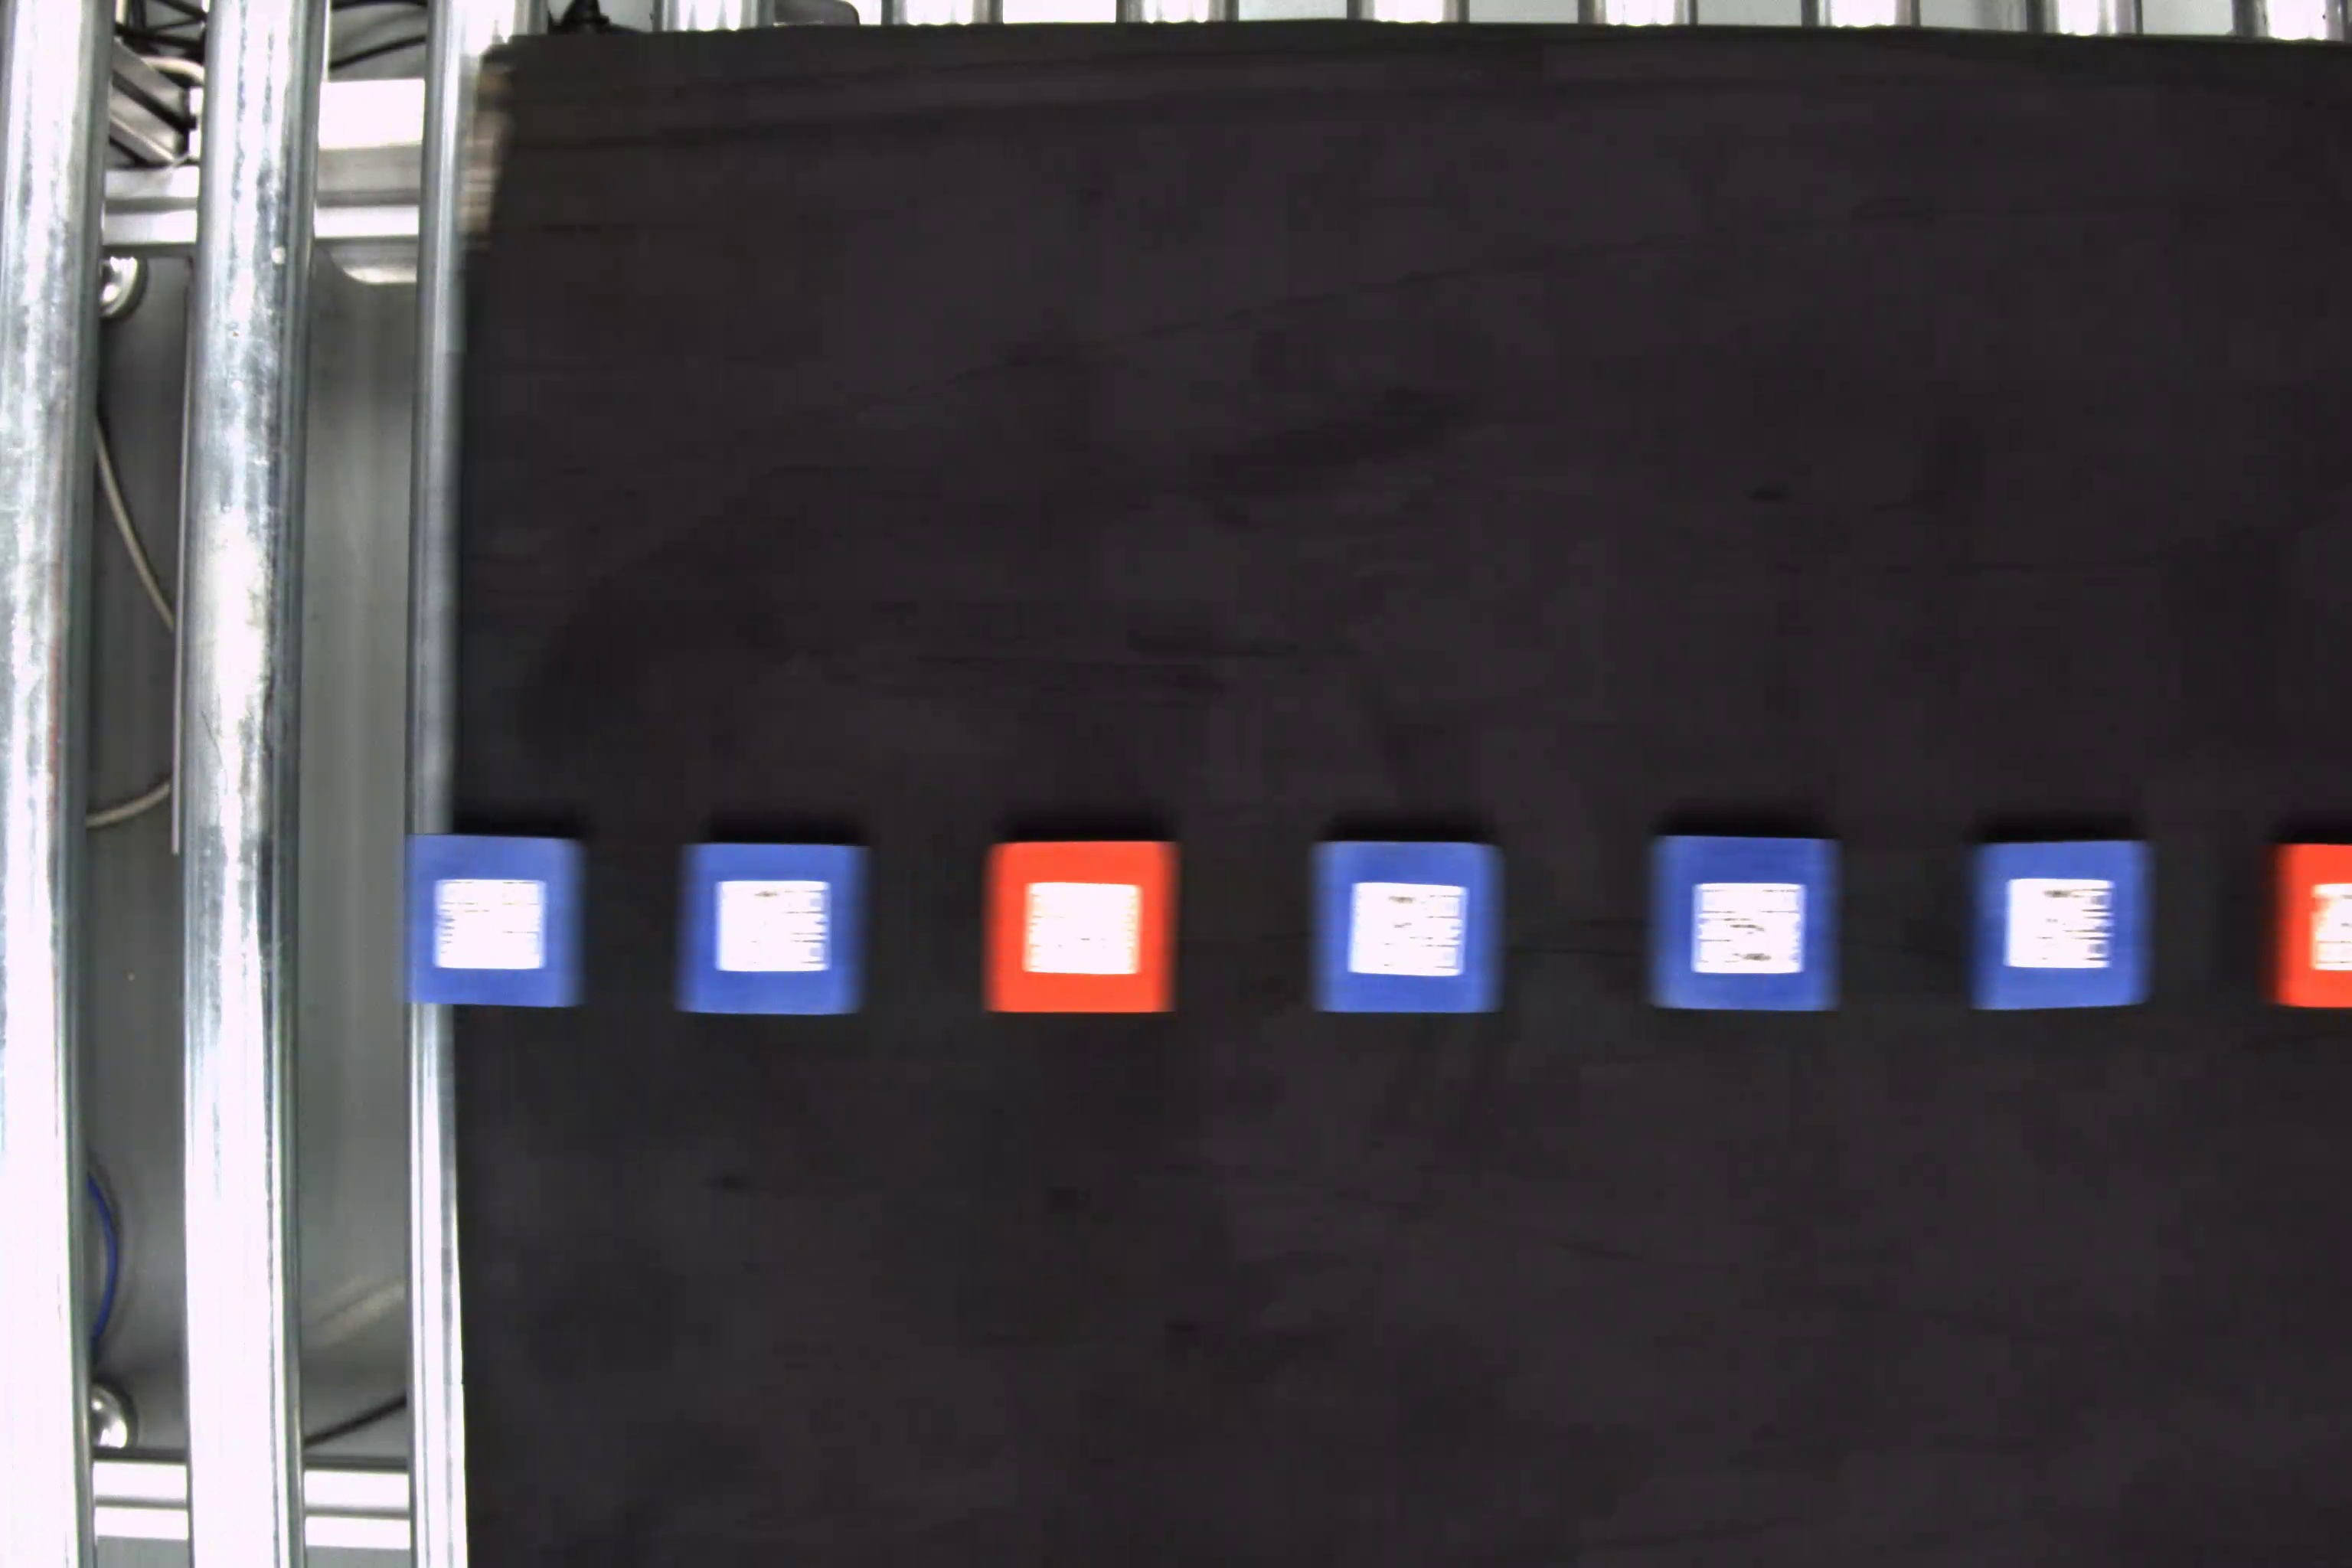wood: (1307, 835, 1510, 1017), (1647, 833, 1844, 1013), (679, 840, 868, 1022), (409, 826, 588, 1006), (987, 840, 1174, 1011), (1969, 843, 2156, 1013), (2270, 842, 2352, 1013)
